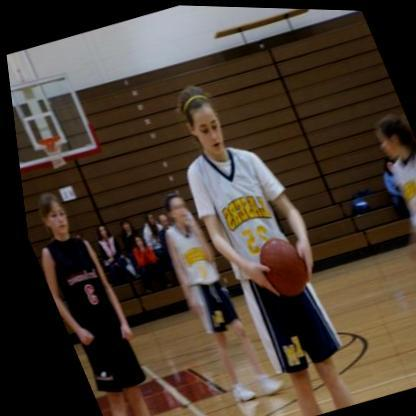basketball: (245, 230, 311, 302)
rim: (31, 132, 58, 148)
